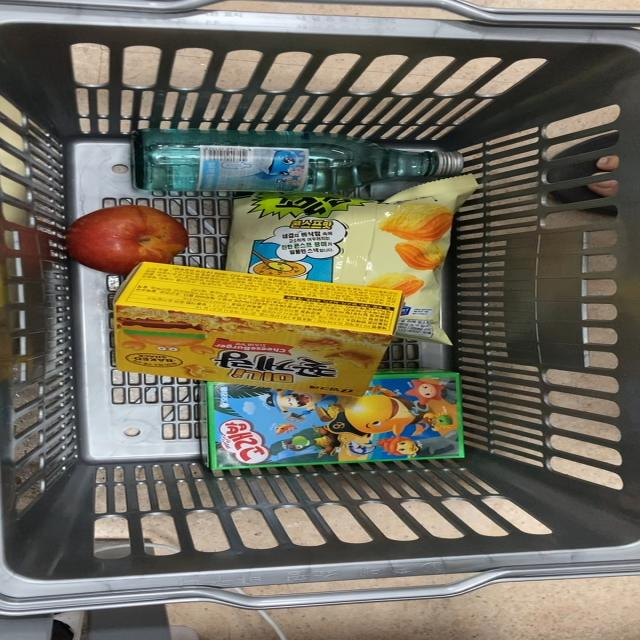ggobukchip: (226, 191, 490, 283)
goraebob: (197, 382, 492, 468)
jinro: (126, 129, 466, 197)
minicrab: (116, 259, 382, 398)
plum: (69, 208, 200, 280)
